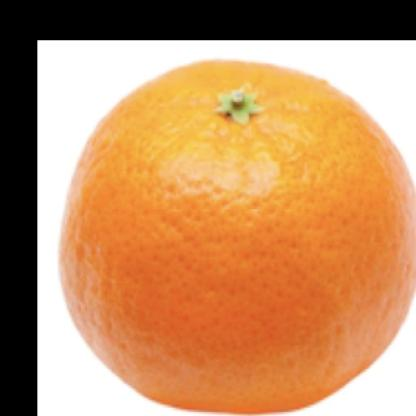fresh: (60, 62, 416, 416)
